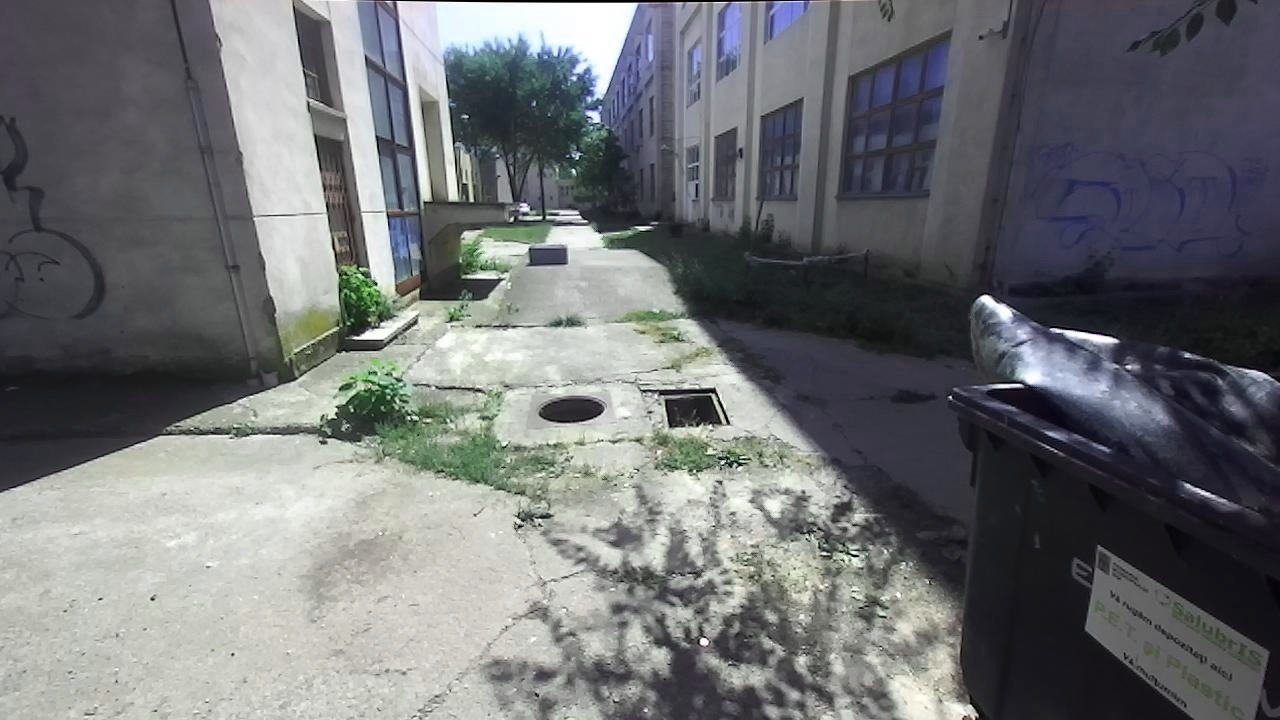drain: (643, 393, 743, 427), (532, 391, 609, 422)
